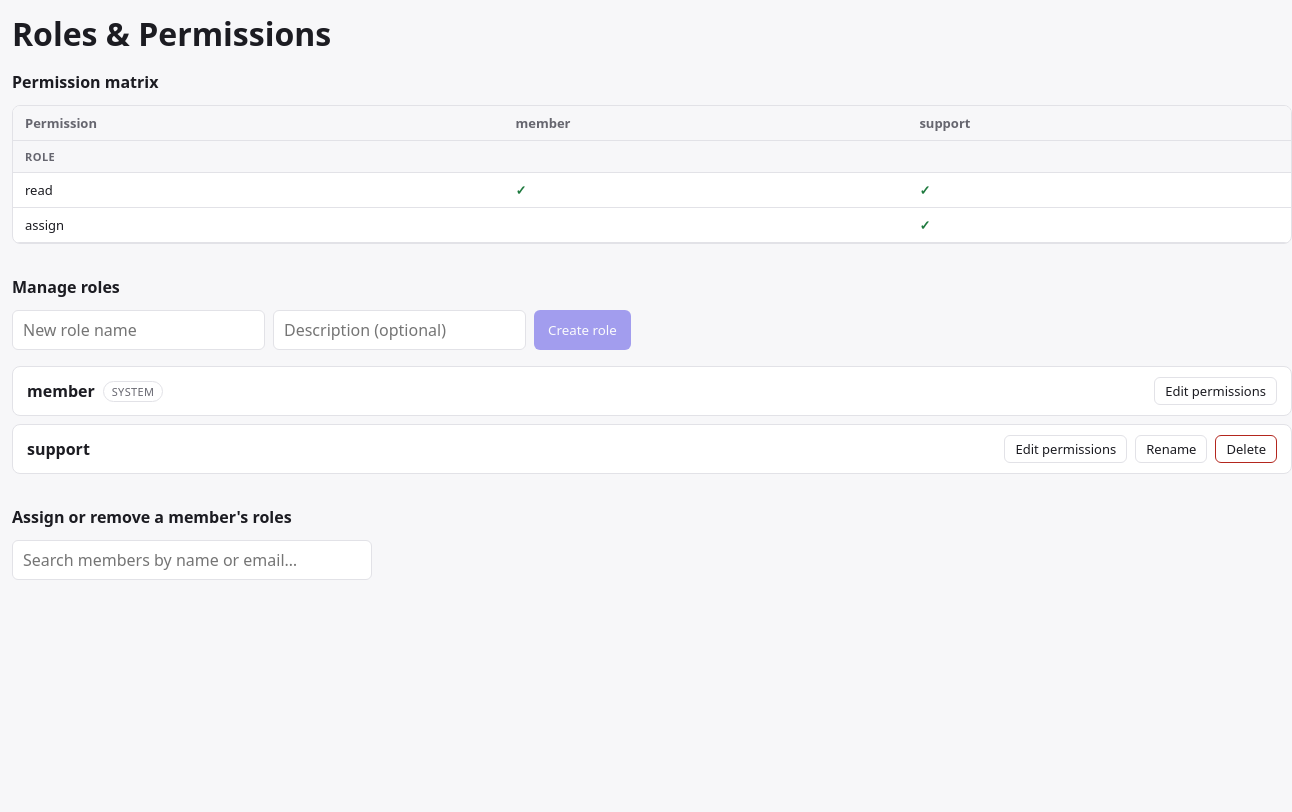
Test: RolesPage › disables permission checkboxes for a system role
The image size is (1292, 812).
Expected: the table is shown, [13,106,1291,243]
Click the button "Edit permissions" in the row of "System".
click(1216, 391)  # box [1154,377,1277,405]
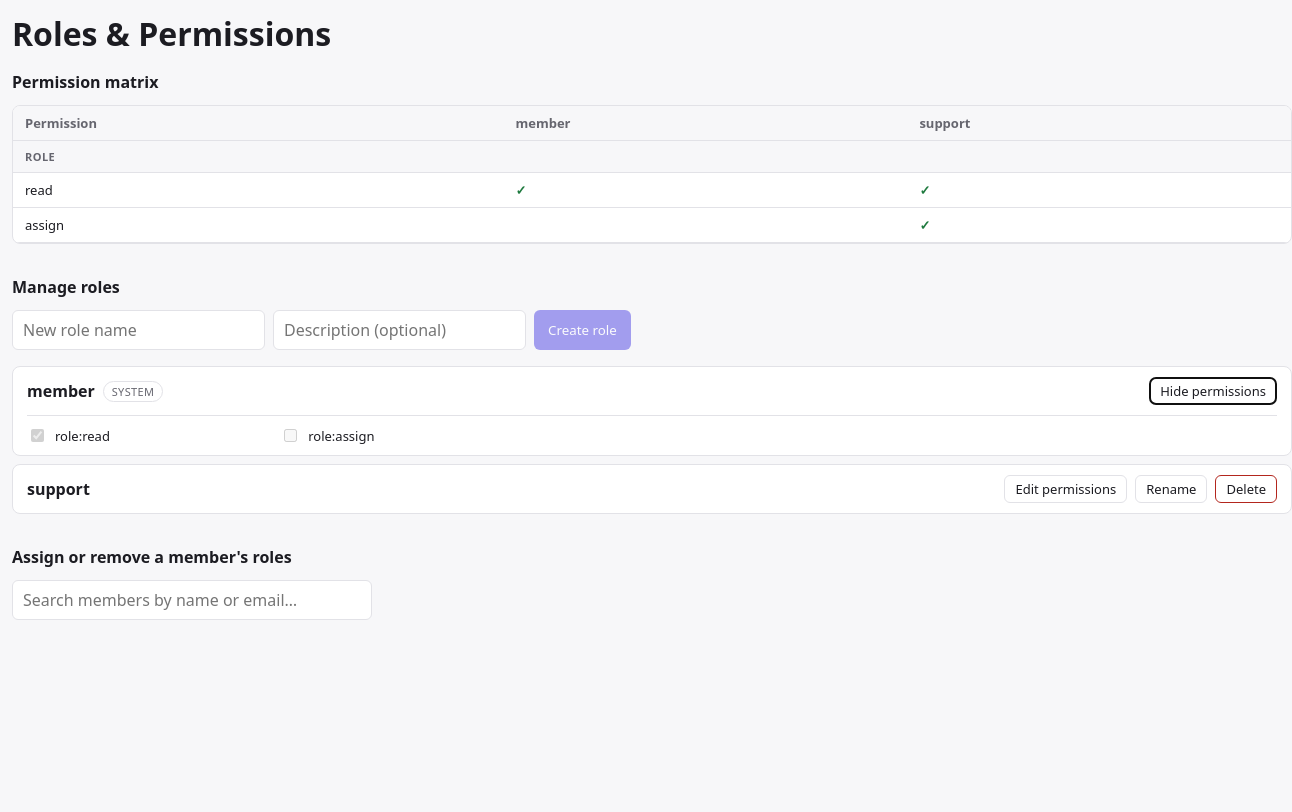
Expected: the checkbox labelled "role:read" is disabled, [31,429,44,442]
Expected: the checkbox labelled "role:assign" is disabled, [284,429,297,442]
